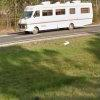Bus: (18, 3, 94, 33)
